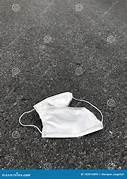Mask: (19, 92, 102, 137)
